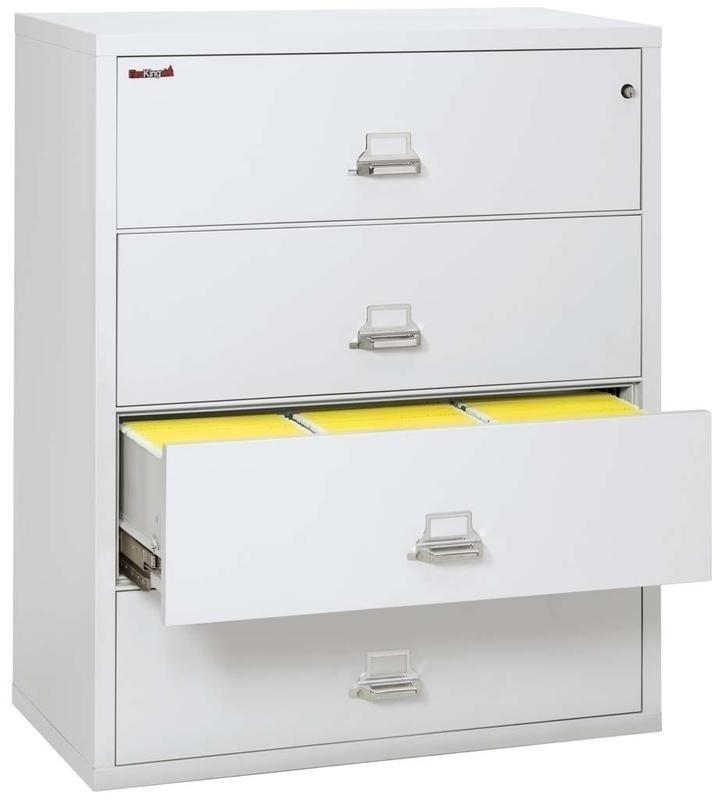cabinet_door: (165, 432, 715, 598), (119, 53, 648, 218), (126, 234, 645, 392), (117, 614, 647, 744)
handle: (406, 505, 490, 572), (347, 125, 433, 185), (348, 306, 430, 358), (348, 648, 425, 702)
